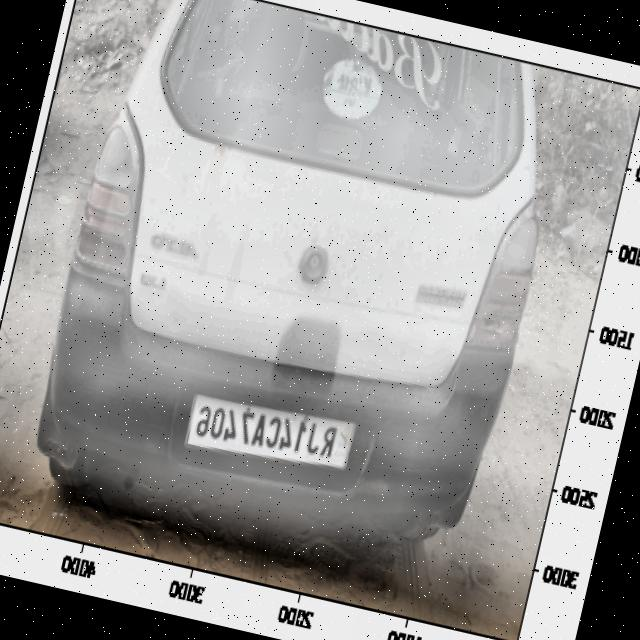license_plate: (186, 388, 341, 478)
